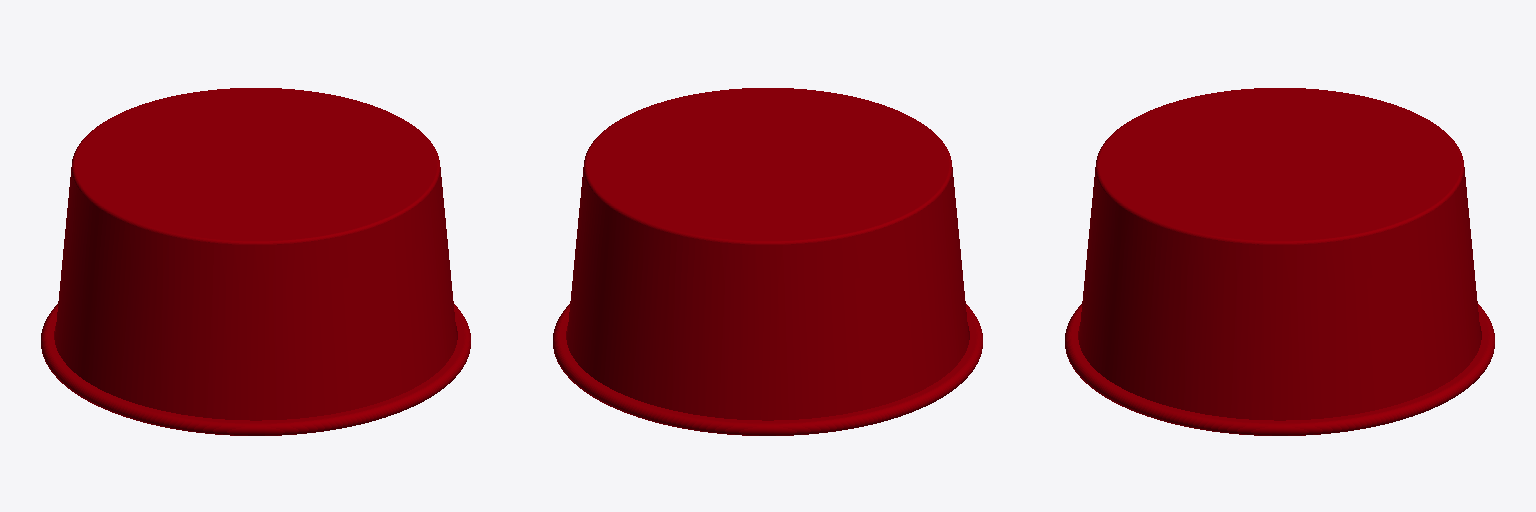
Rendered from red_drum.obj.
3 views of the same model, side by side, from view 1: azimuth 30°, elevation 25°; view 2: azimuth 150°, elevation 25°; view 3: azimuth 270°, elevation 25° (orthographic).
Visible parts, largest first — view 1: Solid1; view 2: Solid1; view 3: Solid1.
Boxes of the visible parts, x1,y1,x2,y2 form: Solid1: [41, 88, 470, 435]; Solid1: [553, 88, 982, 435]; Solid1: [1065, 88, 1494, 435].
Size of the model in its own units: 640 by 300 by 640.